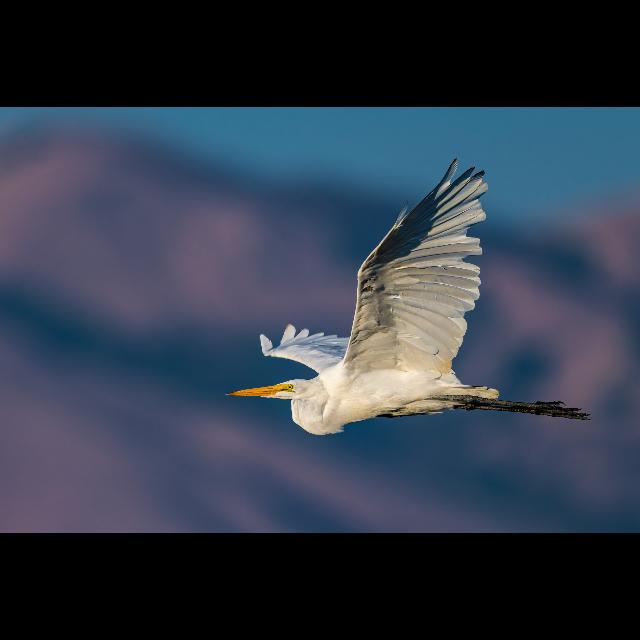egret: (222, 144, 604, 442)
